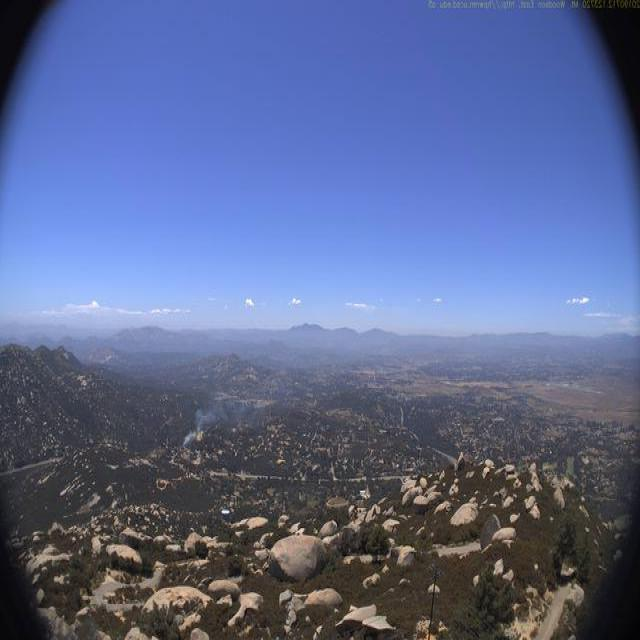Smoke: (177, 384, 265, 452)
